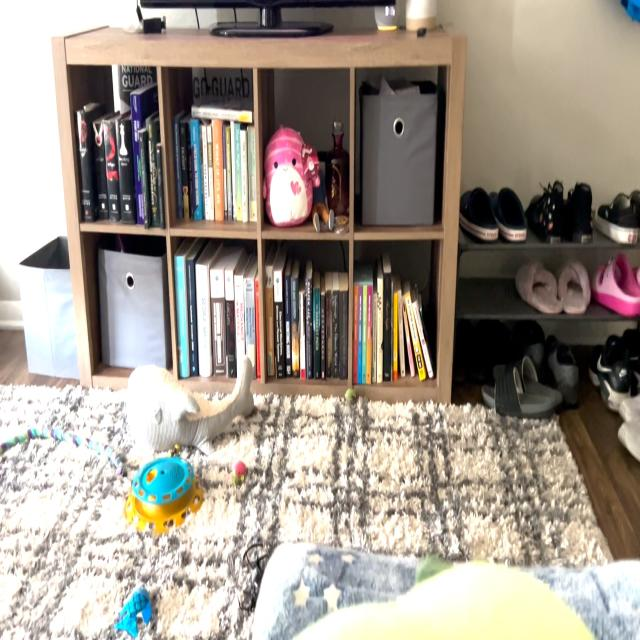drone: (236, 524, 284, 625)
